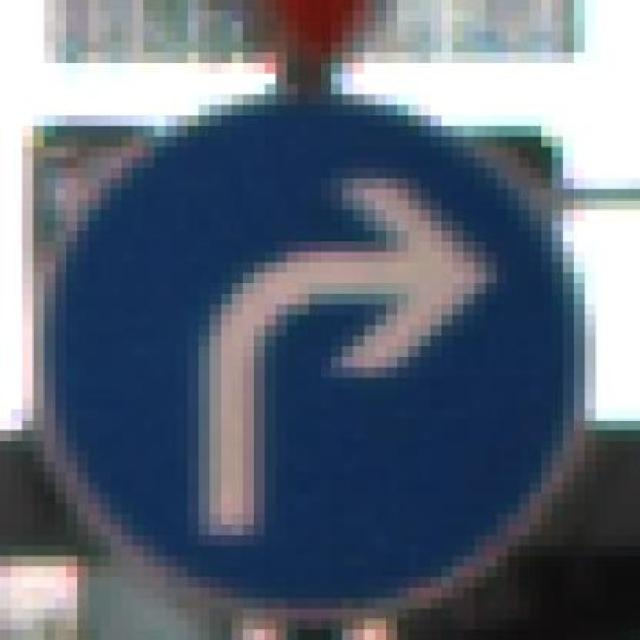Turn right ahead: (33, 73, 607, 630)
